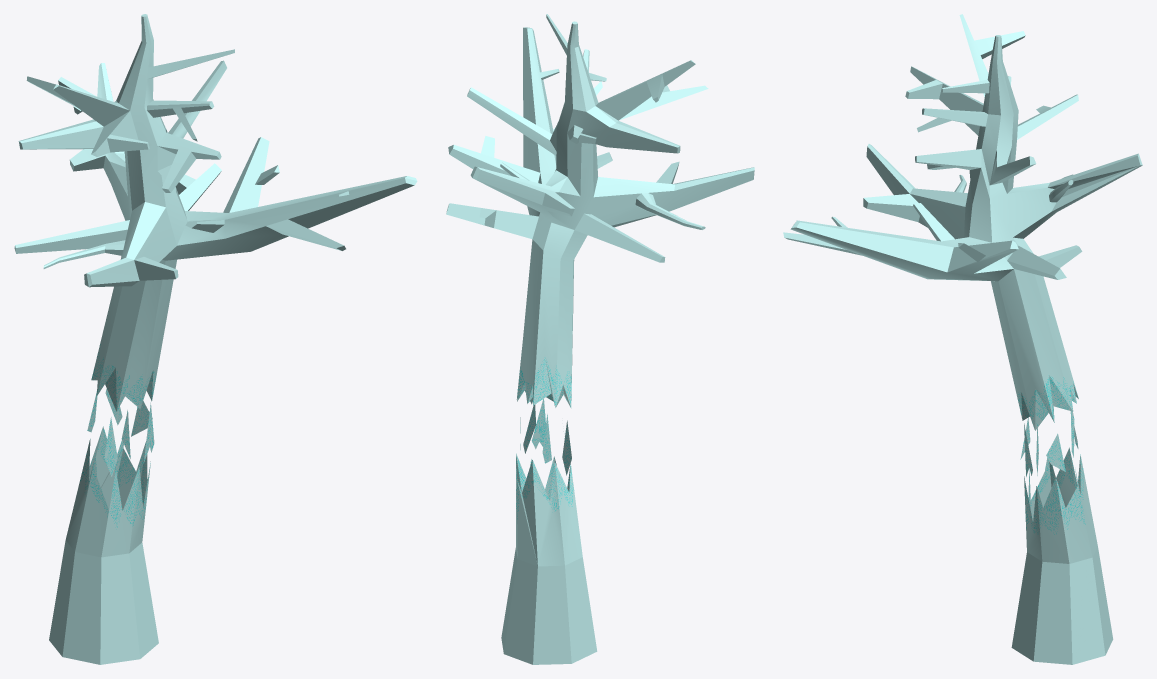
Rendered from Tree_Magic_Crystal_Ice_Large_01.fbx.
3 views of the same model, side by side, from view 1: azimuth 30°, elevation 25°; view 2: azimuth 150°, elevation 25°; view 3: azimuth 270°, elevation 25° (orthographic). The views are drawn at different scales.
Parts seen in each view (by area): view 1: Model; view 2: Model; view 3: Model.
Boxes of the visible parts, left/top/right/bottom form: Model: left=14, top=14, right=417, bottom=664; Model: left=446, top=14, right=754, bottom=664; Model: left=783, top=14, right=1142, bottom=664.
Size of the model in its own units: 763 by 1624 by 867.
